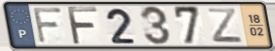2: (103, 5, 140, 46)
3: (138, 4, 172, 47)
7: (171, 4, 203, 47)
F: (65, 5, 101, 47), (31, 7, 64, 45)
Z: (206, 7, 246, 44)
